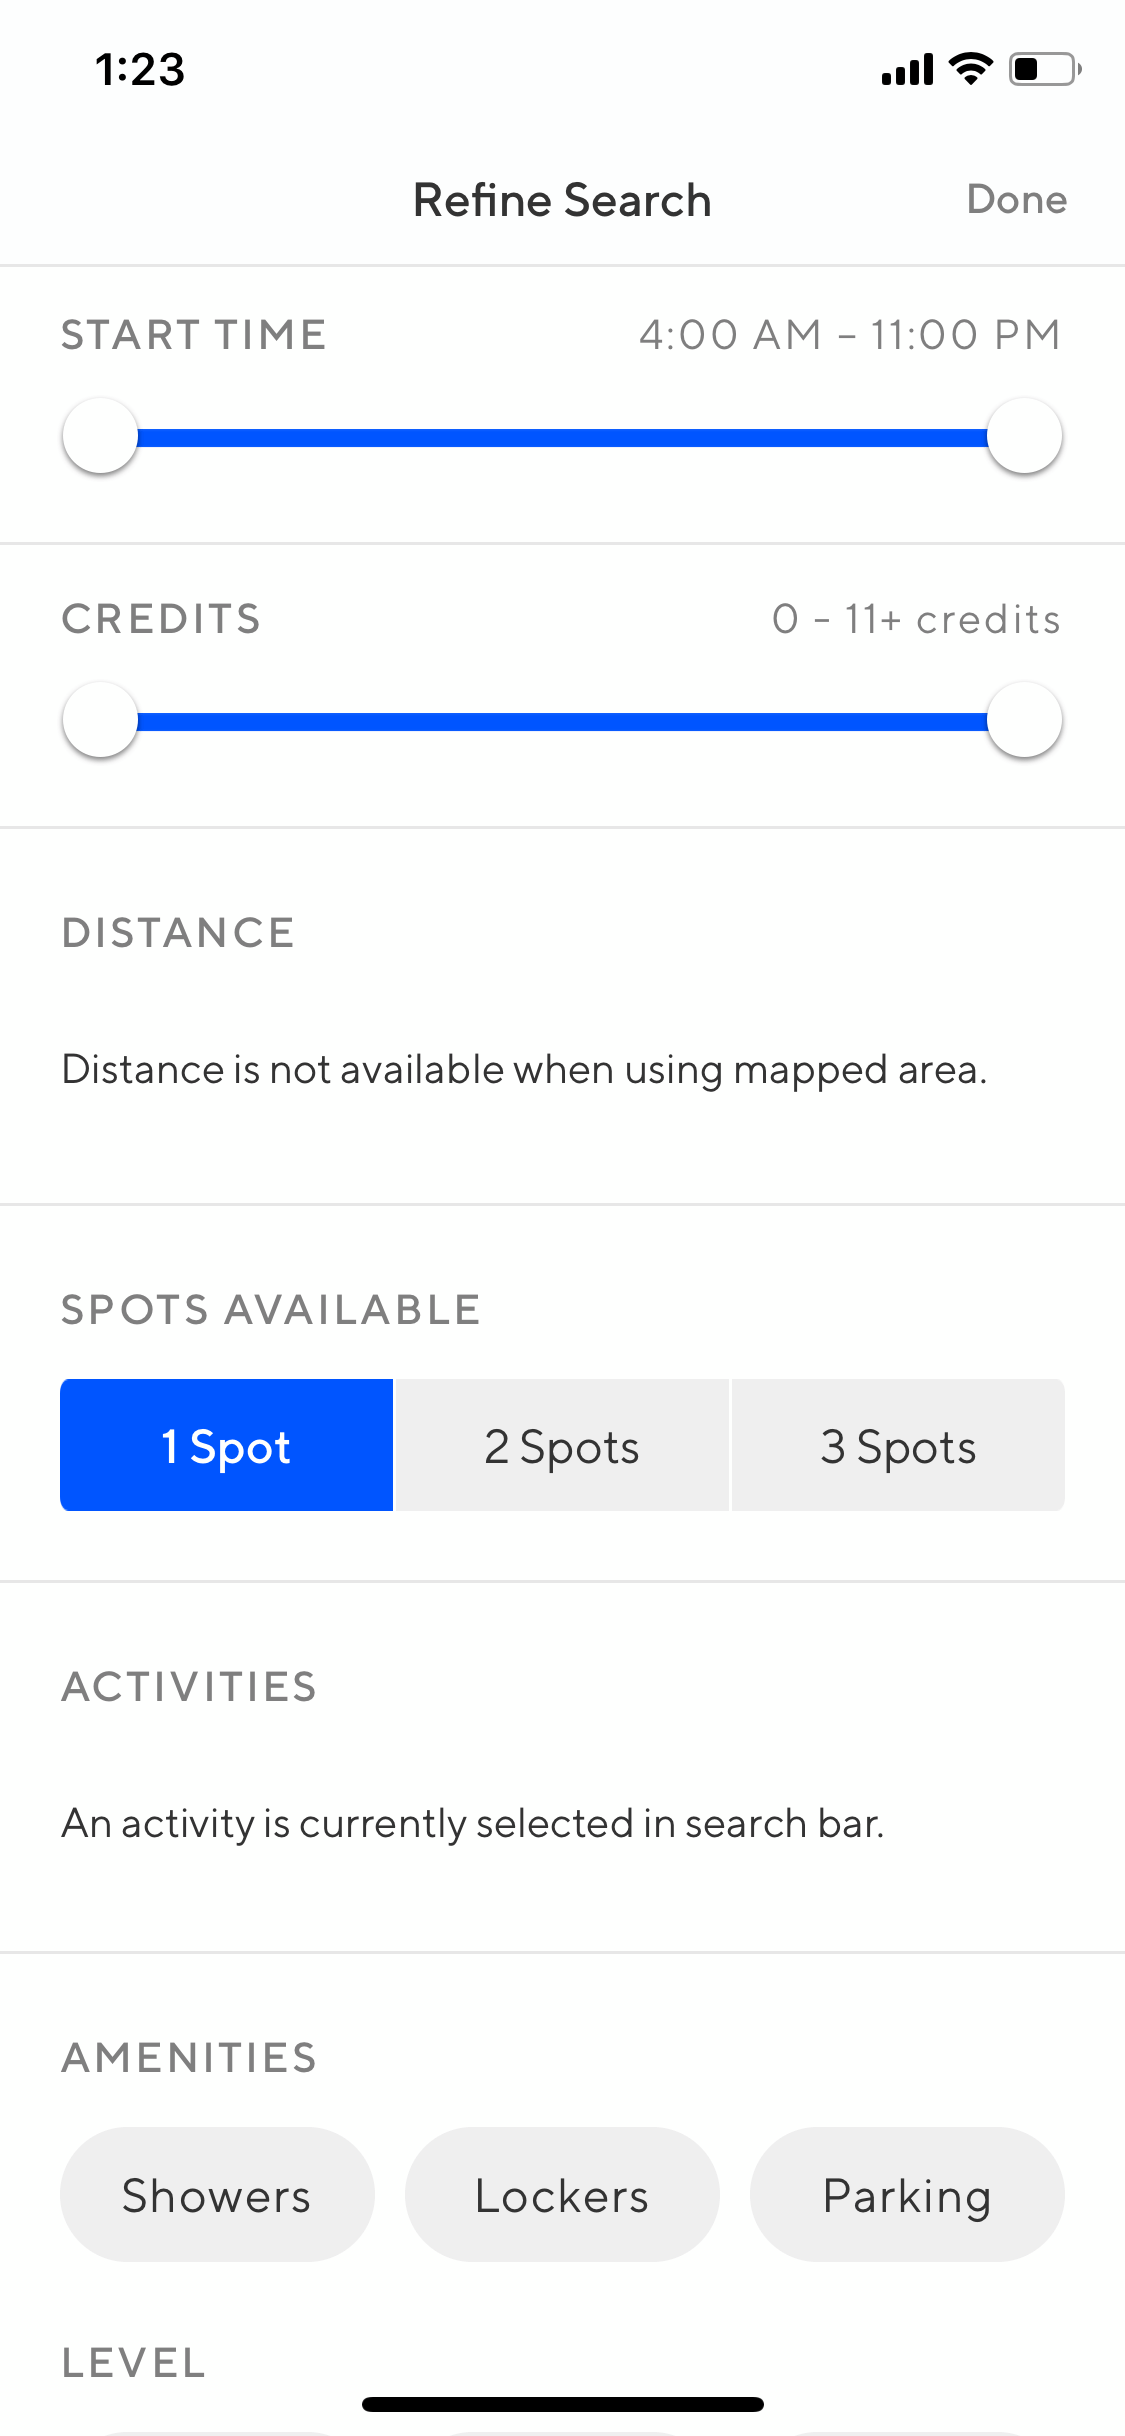Buttons: (928, 138, 1099, 253)
Sliders: (37, 668, 1077, 777), (37, 384, 1078, 489)
